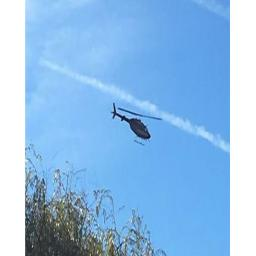helicopter: (111, 102, 164, 146)
